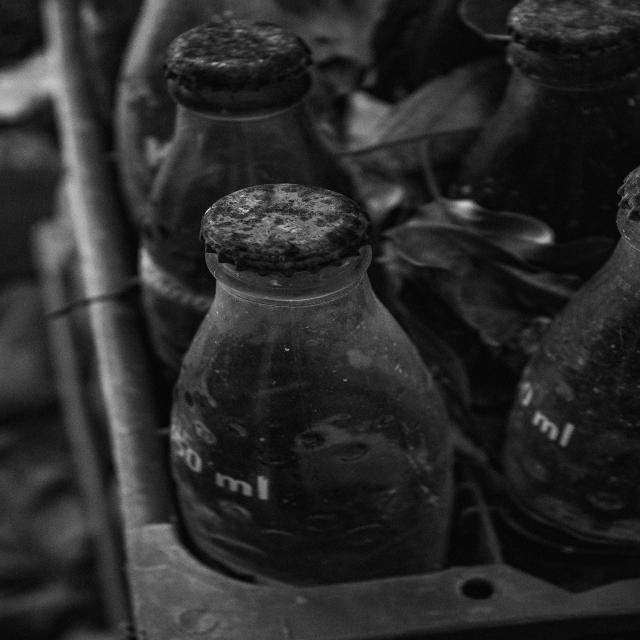electronic: (157, 188, 463, 586), (135, 18, 393, 390), (492, 158, 640, 589), (459, 0, 639, 236)
